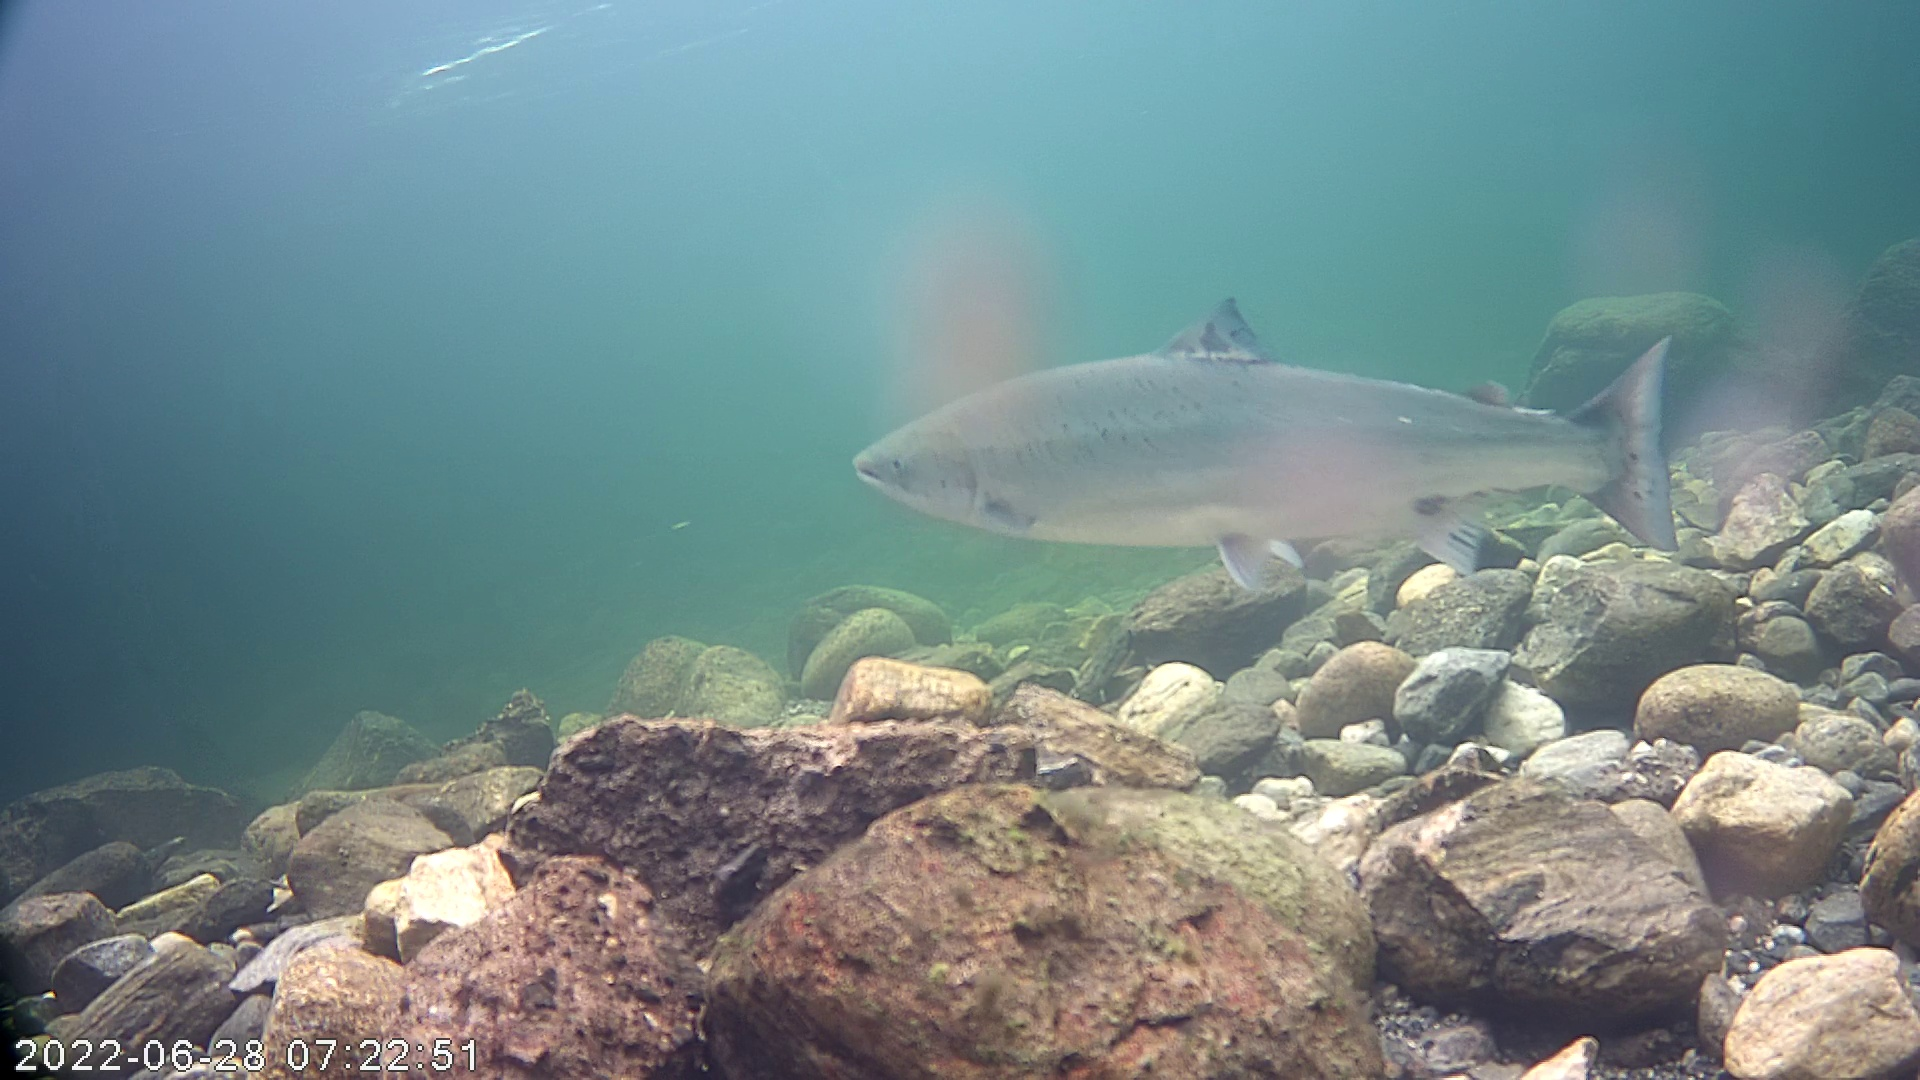salmon: (844, 222, 1713, 637)
